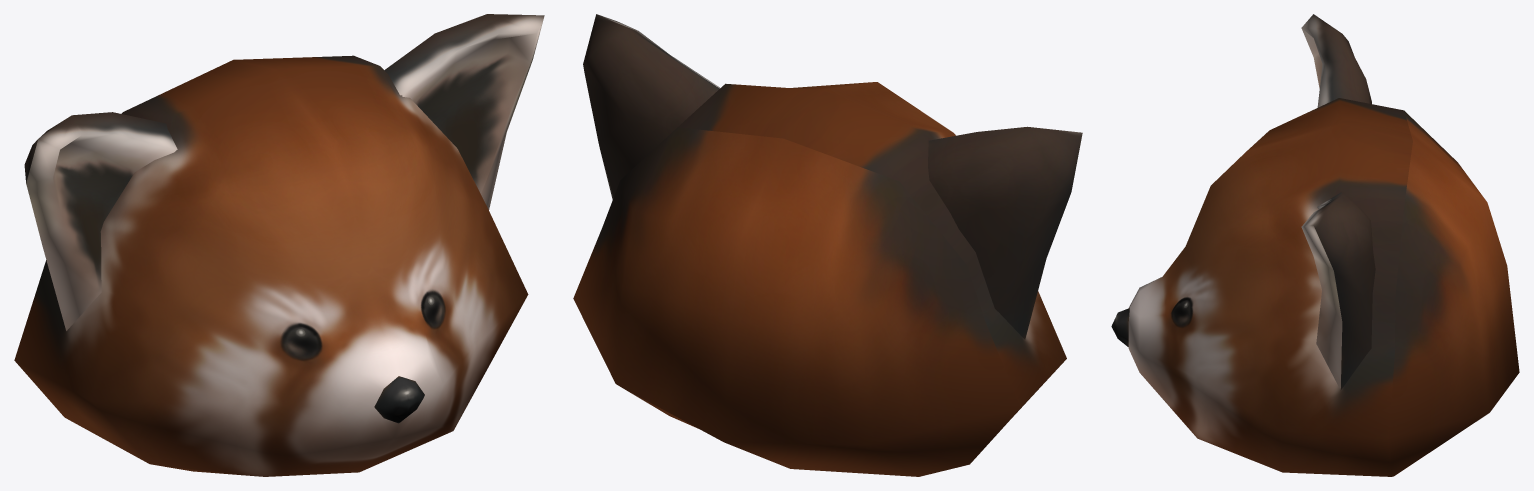
The model's file is Lesser Panda.FBX.
The picture shows the model from 3 angles, left to right: view 1: azimuth 30°, elevation 25°; view 2: azimuth 150°, elevation 25°; view 3: azimuth 270°, elevation 25°; orthographic projection. The views are drawn at different scales.
Parts seen in each view (by area): view 1: Lesser Panda; view 2: Lesser Panda; view 3: Lesser Panda.
Part boxes in pixels (left/top/right/bottom): Lesser Panda: left=14, top=14, right=544, bottom=476; Lesser Panda: left=573, top=14, right=1082, bottom=476; Lesser Panda: left=1111, top=14, right=1519, bottom=476.
Bounding box in the file's own units: 38.3 × 27.3 × 31.25.
